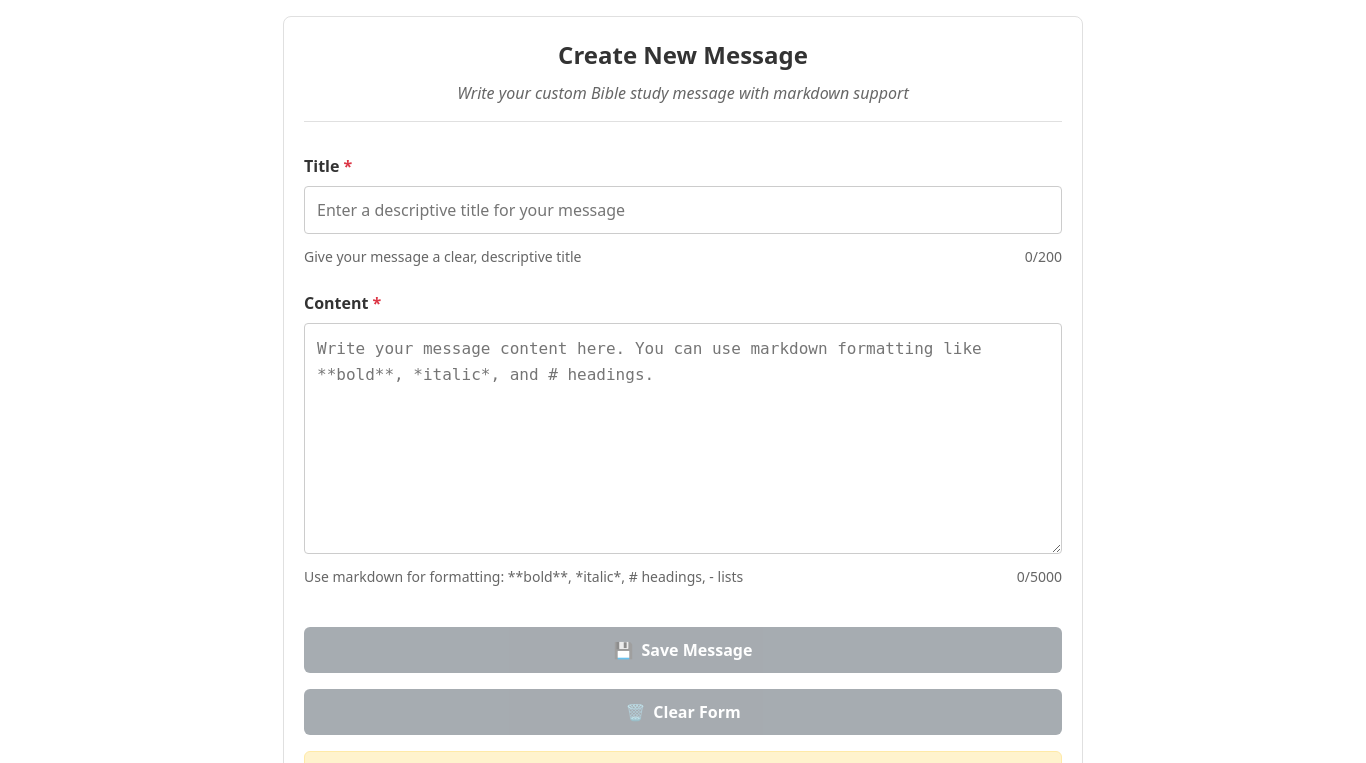
Test case: MessageEditor Component › Clear Form Functionality › clears form when confirmation is accepted
This screenshot has width=1366, height=763.
Type "Test Title" into the field labelled "Title *".
click(683, 210); type("Test Title")  # box [304, 186, 1062, 234]
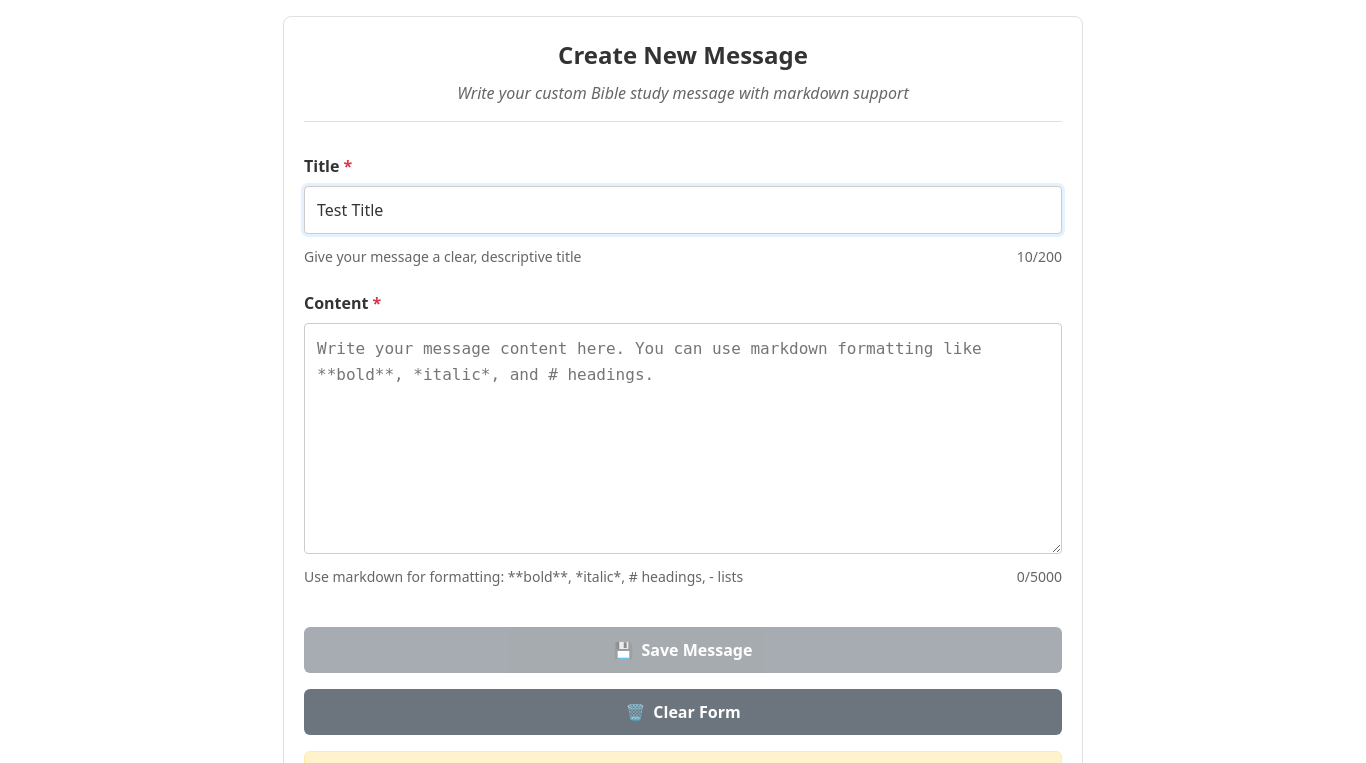
Type "Test content" into the text box labelled "Content *".
click(683, 438); type("Test content")  # box [304, 323, 1062, 554]
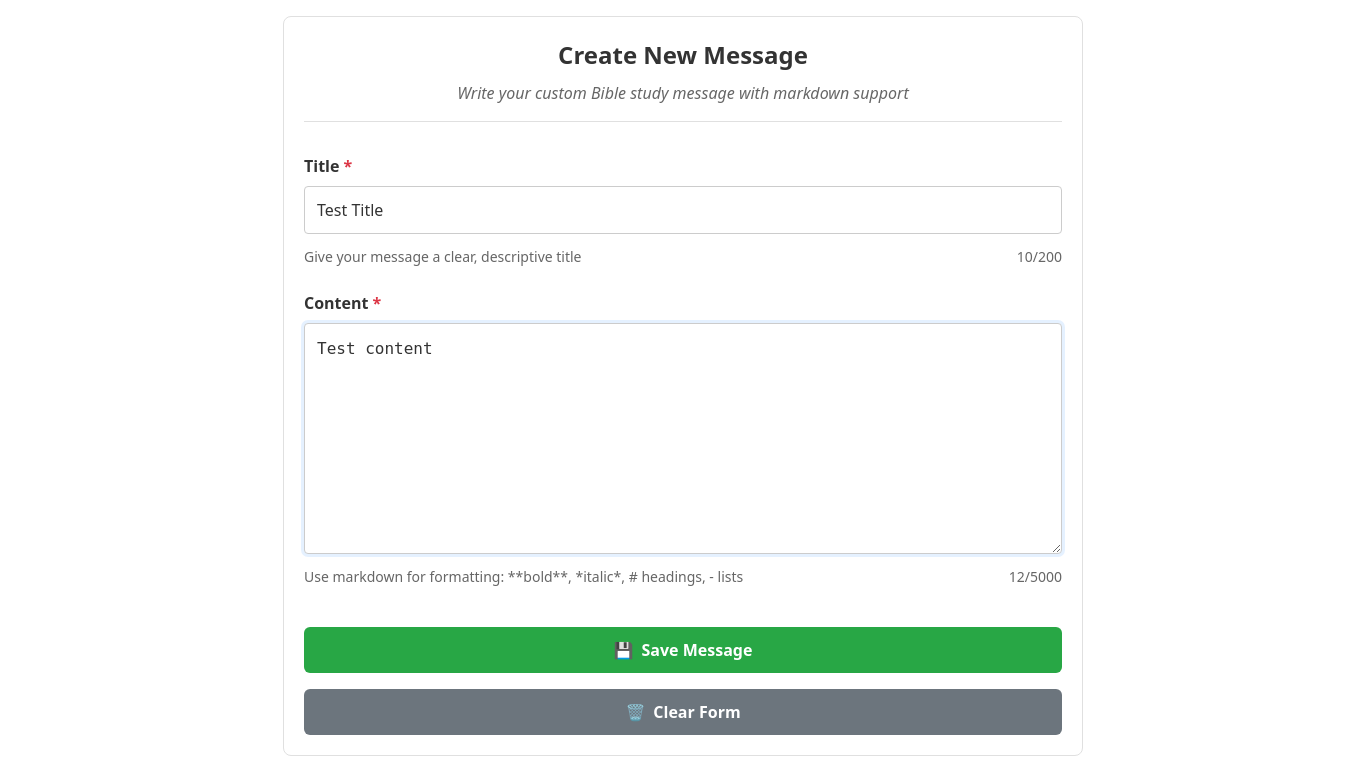
Click the button "🗑️ Clear Form".
click(683, 712)  # box [304, 689, 1062, 735]
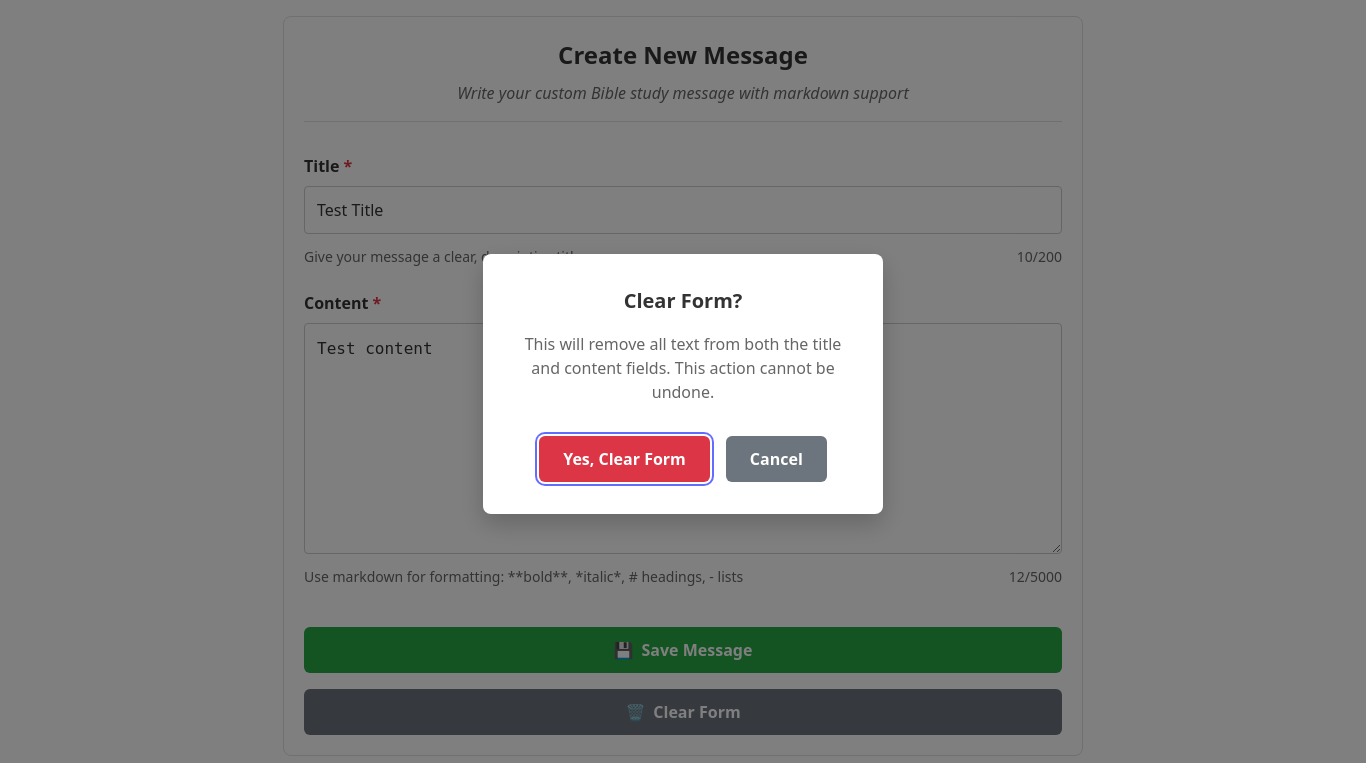
Click the button "Yes, Clear Form".
click(624, 459)  # box [539, 436, 710, 482]
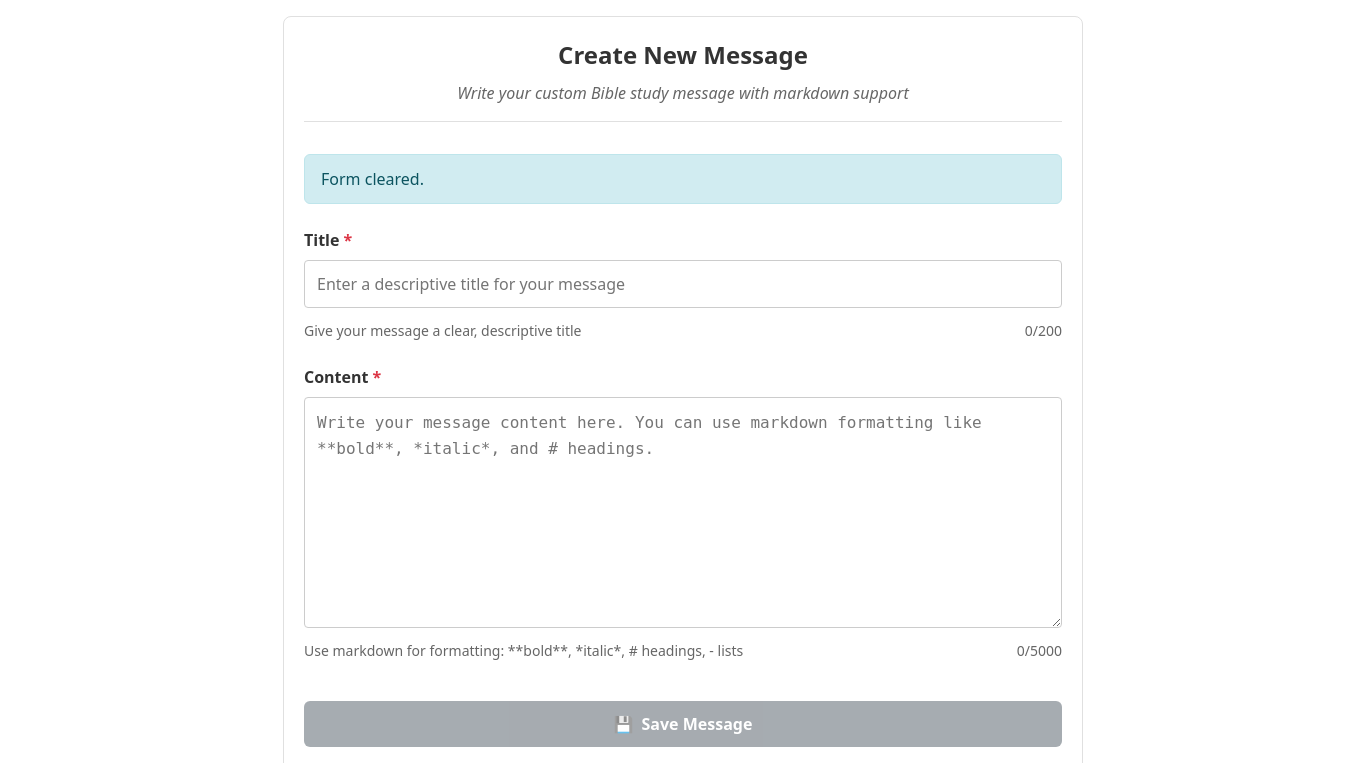
Now the field labelled "Title *" is empty, box [304, 260, 1062, 308]
Now the text box labelled "Content *" is empty, box [304, 397, 1062, 628]
